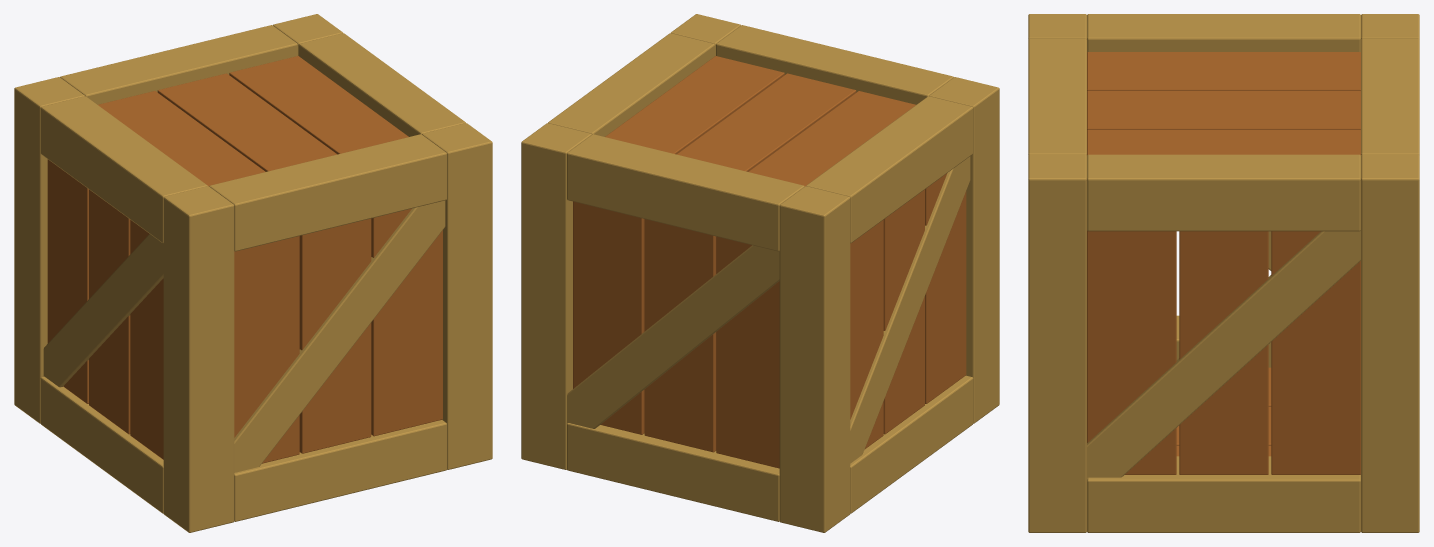
File: WoodBox.fbx
3 views of the same model, side by side, from view 1: azimuth 30°, elevation 25°; view 2: azimuth 150°, elevation 25°; view 3: azimuth 270°, elevation 25° (orthographic). The views are drawn at different scales.
Parts seen in each view (by area): view 1: Frame_Post_FL, Frame_Post_FR, Frame_Front_Top_Rail, Brace_Front_Diagonal, Panel_Front_03, Panel_Front_02, Frame_Left_Top_Rail, Frame_Post_BL, Frame_Front_Bottom_Rail, Panel_Front_01, Frame_Back_Top_Rail, Panel_Top_03 (+9 smaller); view 2: Frame_Post_BL, Frame_Post_BR, Frame_Back_Top_Rail, Panel_Back_03, Panel_Back_02, Brace_Back_Diagonal, Frame_Back_Bottom_Rail, Frame_Left_Top_Rail, Frame_Post_FL, Panel_Back_01, Frame_Front_Top_Rail, Panel_Top_03 (+9 smaller); view 3: Frame_Post_BR, Frame_Post_FR, Frame_Right_Top_Rail, Brace_Right_Diagonal, Panel_Right_03, Panel_Right_01, Panel_Right_02, Frame_Right_Bottom_Rail, Panel_Top_01, Panel_Top_02, Frame_Left_Top_Rail, Frame_Back_Top_Rail (+4 smaller).
Part boxes in pixels (x1,y1,x2,y2): Frame_Post_FL: [163, 186, 234, 532]; Frame_Post_FR: [422, 123, 492, 469]; Frame_Front_Top_Rail: [209, 134, 446, 251]; Brace_Front_Diagonal: [234, 200, 445, 472]; Panel_Front_03: [371, 208, 442, 436]; Panel_Front_02: [299, 218, 371, 453]; Frame_Left_Top_Rail: [40, 96, 207, 243]; Frame_Post_BL: [14, 77, 84, 423]; Frame_Front_Bottom_Rail: [234, 420, 446, 521]; Panel_Front_01: [234, 236, 299, 463]; Frame_Back_Top_Rail: [60, 25, 297, 104]; Panel_Top_03: [229, 56, 408, 154]; Frame_Post_BL: [779, 186, 850, 532]; Frame_Post_BR: [521, 123, 591, 469]; Frame_Back_Top_Rail: [567, 134, 804, 251]; Panel_Back_03: [573, 201, 644, 434]; Panel_Back_02: [644, 219, 716, 452]; Brace_Back_Diagonal: [567, 245, 779, 428]; Frame_Back_Bottom_Rail: [567, 423, 779, 521]; Frame_Left_Top_Rail: [806, 96, 973, 243]; Frame_Post_FL: [929, 77, 999, 423]; Panel_Back_01: [716, 236, 779, 468]; Frame_Front_Top_Rail: [716, 25, 953, 104]; Panel_Top_03: [605, 56, 784, 154]; Frame_Post_BR: [1361, 154, 1419, 532]; Frame_Post_FR: [1028, 154, 1086, 532]; Frame_Right_Top_Rail: [1087, 154, 1360, 231]; Brace_Right_Diagonal: [1087, 230, 1360, 478]; Panel_Right_03: [1271, 231, 1360, 474]; Panel_Right_01: [1087, 230, 1176, 474]; Panel_Right_02: [1179, 231, 1268, 474]; Frame_Right_Bottom_Rail: [1087, 456, 1360, 532]; Panel_Top_01: [1087, 52, 1360, 90]; Panel_Top_02: [1087, 91, 1360, 129]; Frame_Left_Top_Rail: [1087, 14, 1360, 51]; Frame_Back_Top_Rail: [1361, 38, 1419, 155].
Bounding box in the file's own units: 100 × 100 × 100.
